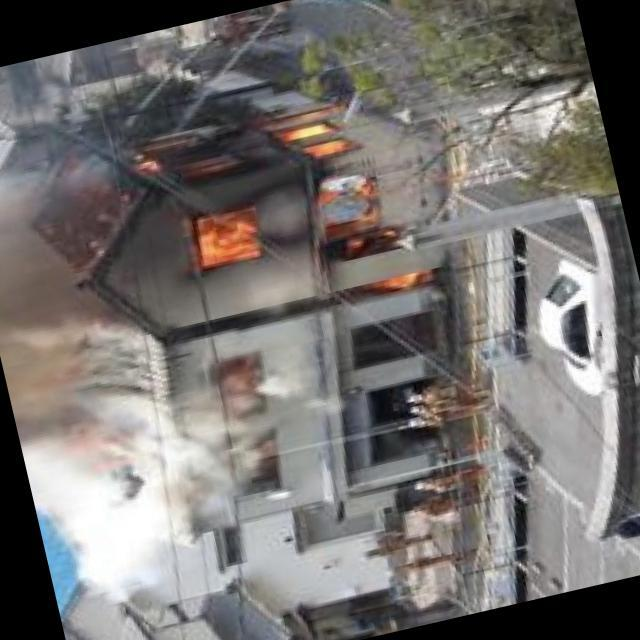Fire: (114, 61, 449, 369)
